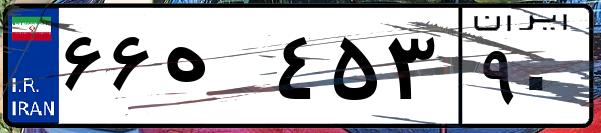0: (525, 38, 570, 115)
3: (385, 28, 445, 110)
4: (270, 28, 330, 110)
5: (330, 28, 385, 110)
6: (57, 26, 110, 100), (110, 28, 158, 98)
9: (475, 38, 525, 113)
ه: (158, 20, 270, 120)
